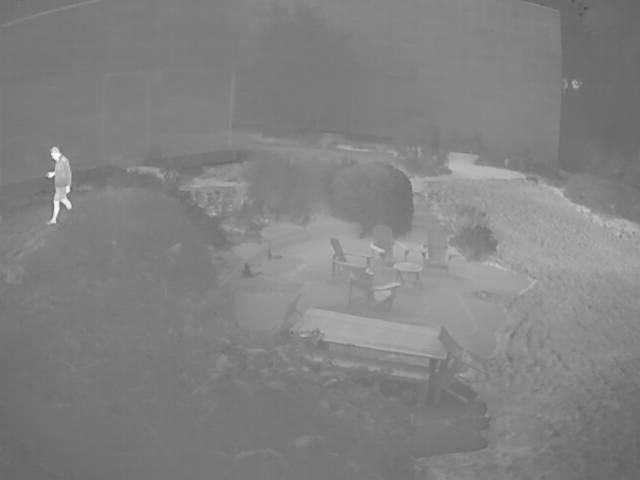person: (46, 146, 74, 228)
